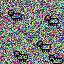sheep: (45, 14, 59, 26), (8, 10, 22, 21), (37, 41, 51, 52), (14, 51, 28, 62), (48, 55, 63, 64)
